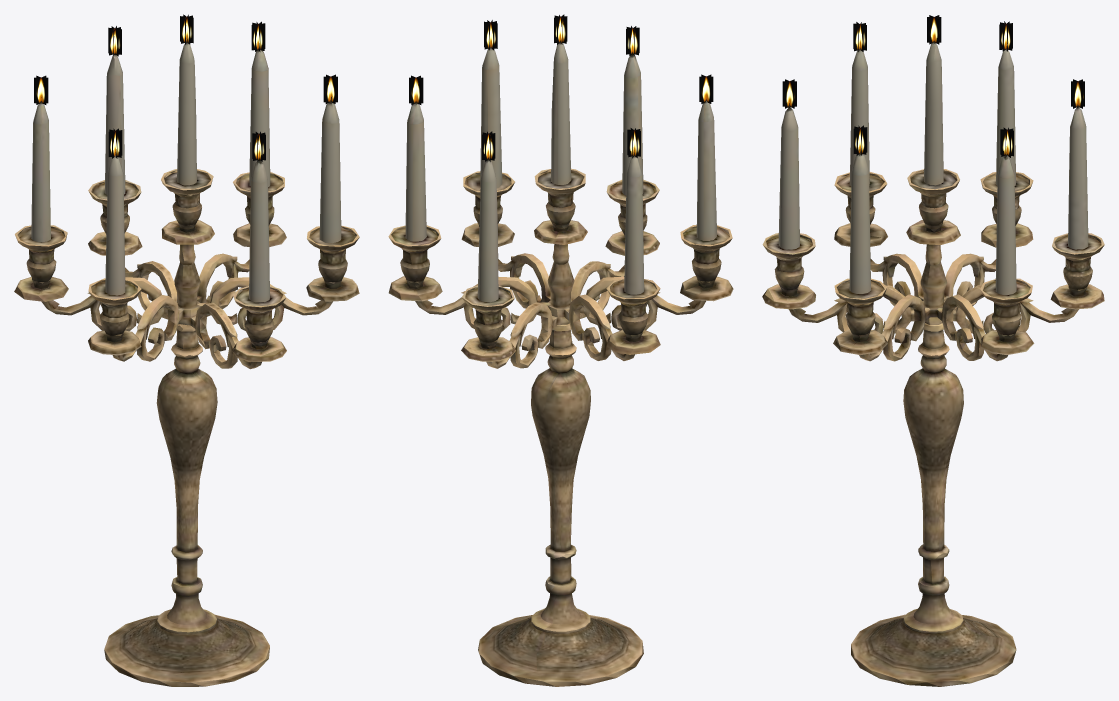
Rendered from candelabra-brass.lod1.glb.
3 renders of one model, left to right at view 1: azimuth 30°, elevation 25°; view 2: azimuth 150°, elevation 25°; view 3: azimuth 270°, elevation 25°, orthographic.
Visible parts, largest first — view 1: candelabra-brass; view 2: candelabra-brass; view 3: candelabra-brass.
Boxes of the visible parts, x1=… form: candelabra-brass: x1=14, y1=14, x2=359, y2=686; candelabra-brass: x1=388, y1=14, x2=733, y2=686; candelabra-brass: x1=762, y1=15, x2=1104, y2=686.
Bounding box in the file's own units: 0.3663 × 0.8353 × 0.4086.
2 materials, 2 textured.
